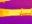Hotspot: (0, 8, 31, 16), (0, 0, 6, 2)
